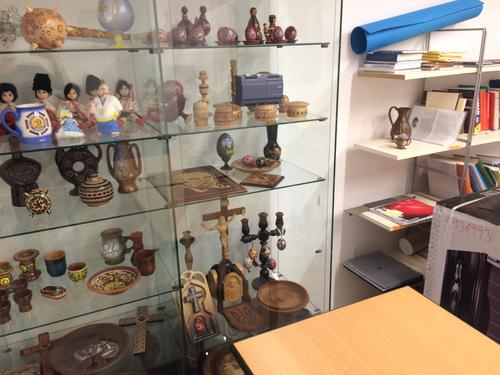iot2000: (234, 73, 284, 107)
